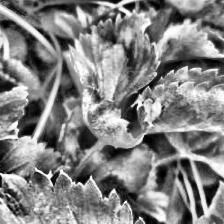Powdery Mildew Leaf: (0, 167, 161, 224), (128, 64, 224, 134), (80, 86, 163, 150), (153, 18, 224, 66), (164, 0, 216, 13)
